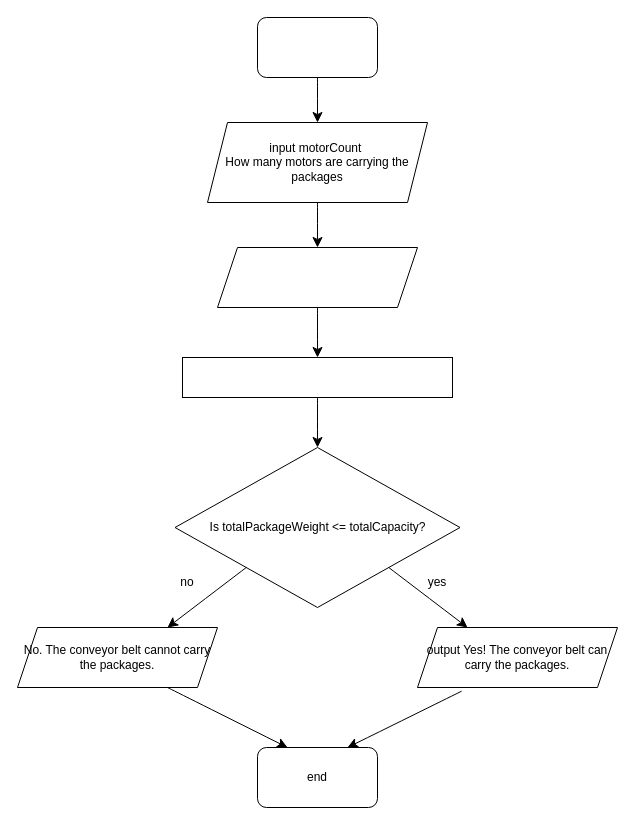
This 635x825 diagram has some shape labels left out. Here are the shapes that lost their labels. From the top down, the centre of each, then its label:
At (x=317, y=47): "start".
At (x=317, y=277): "input totalPackageWeight How many kg of packages do we expect".
At (x=317, y=377): "totalCpacity = motorCount * MOTOR_CAPACITY".
